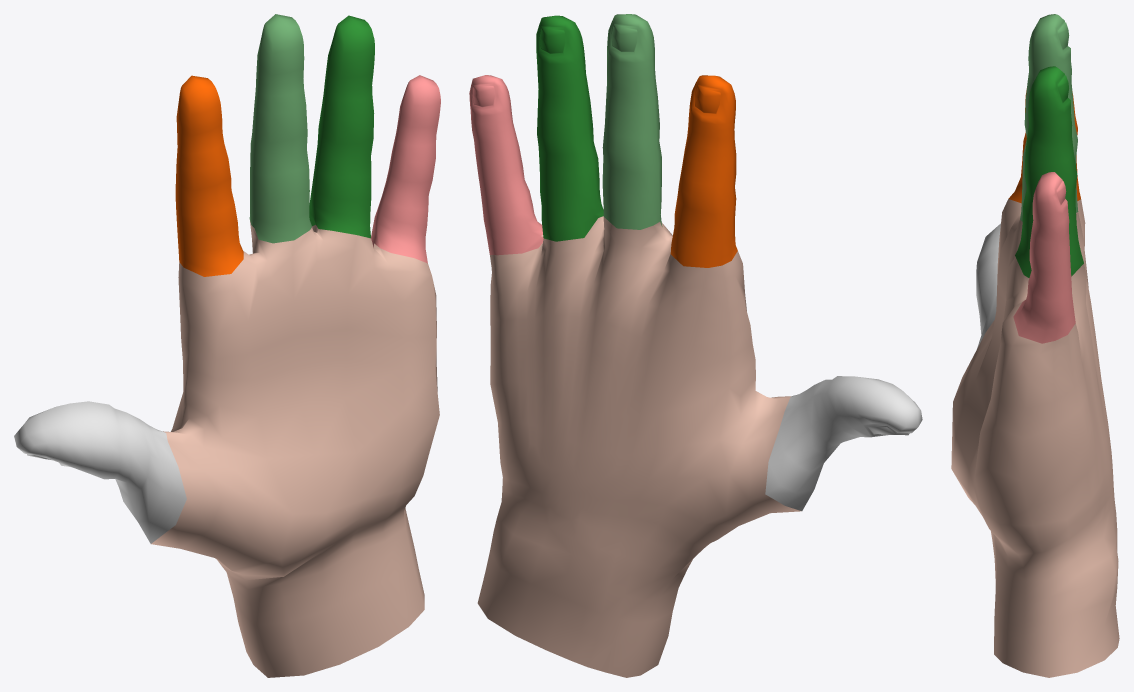
3 renders of one model, left to right at view 1: azimuth 30°, elevation 25°; view 2: azimuth 150°, elevation 25°; view 3: azimuth 270°, elevation 25°, orthographic. The views are drawn at different scales.
Visible parts, largest first — view 1: Hand_switchable, thumb_switchable, middle_switchable, Ring_switchable, point_switchable, pinky_switchable; view 2: Hand_switchable, Ring_switchable, middle_switchable, thumb_switchable, point_switchable, pinky_switchable; view 3: Hand_switchable, pinky_switchable, Ring_switchable, middle_switchable, thumb_switchable, point_switchable.
Boxes of the visible parts, <box> form: Hand_switchable: <box>151,221,439,677</box>; thumb_switchable: <box>14,401,186,543</box>; middle_switchable: <box>249,14,311,243</box>; Ring_switchable: <box>309,15,374,238</box>; point_switchable: <box>175,75,243,276</box>; pinky_switchable: <box>371,75,440,263</box>; Hand_switchable: <box>477,216,801,677</box>; Ring_switchable: <box>536,15,603,241</box>; middle_switchable: <box>602,14,662,229</box>; thumb_switchable: <box>765,376,922,510</box>; point_switchable: <box>670,75,737,267</box>; pinky_switchable: <box>469,75,543,255</box>; Hand_switchable: <box>951,199,1119,677</box>; pinky_switchable: <box>1013,172,1075,343</box>; Ring_switchable: <box>1015,66,1083,277</box>; middle_switchable: <box>1020,14,1078,221</box>; thumb_switchable: <box>976,223,1000,348</box>; point_switchable: <box>1008,88,1080,203</box>.
Bounding box in the file's own units: 0.1669 × 0.239 × 0.0578.
